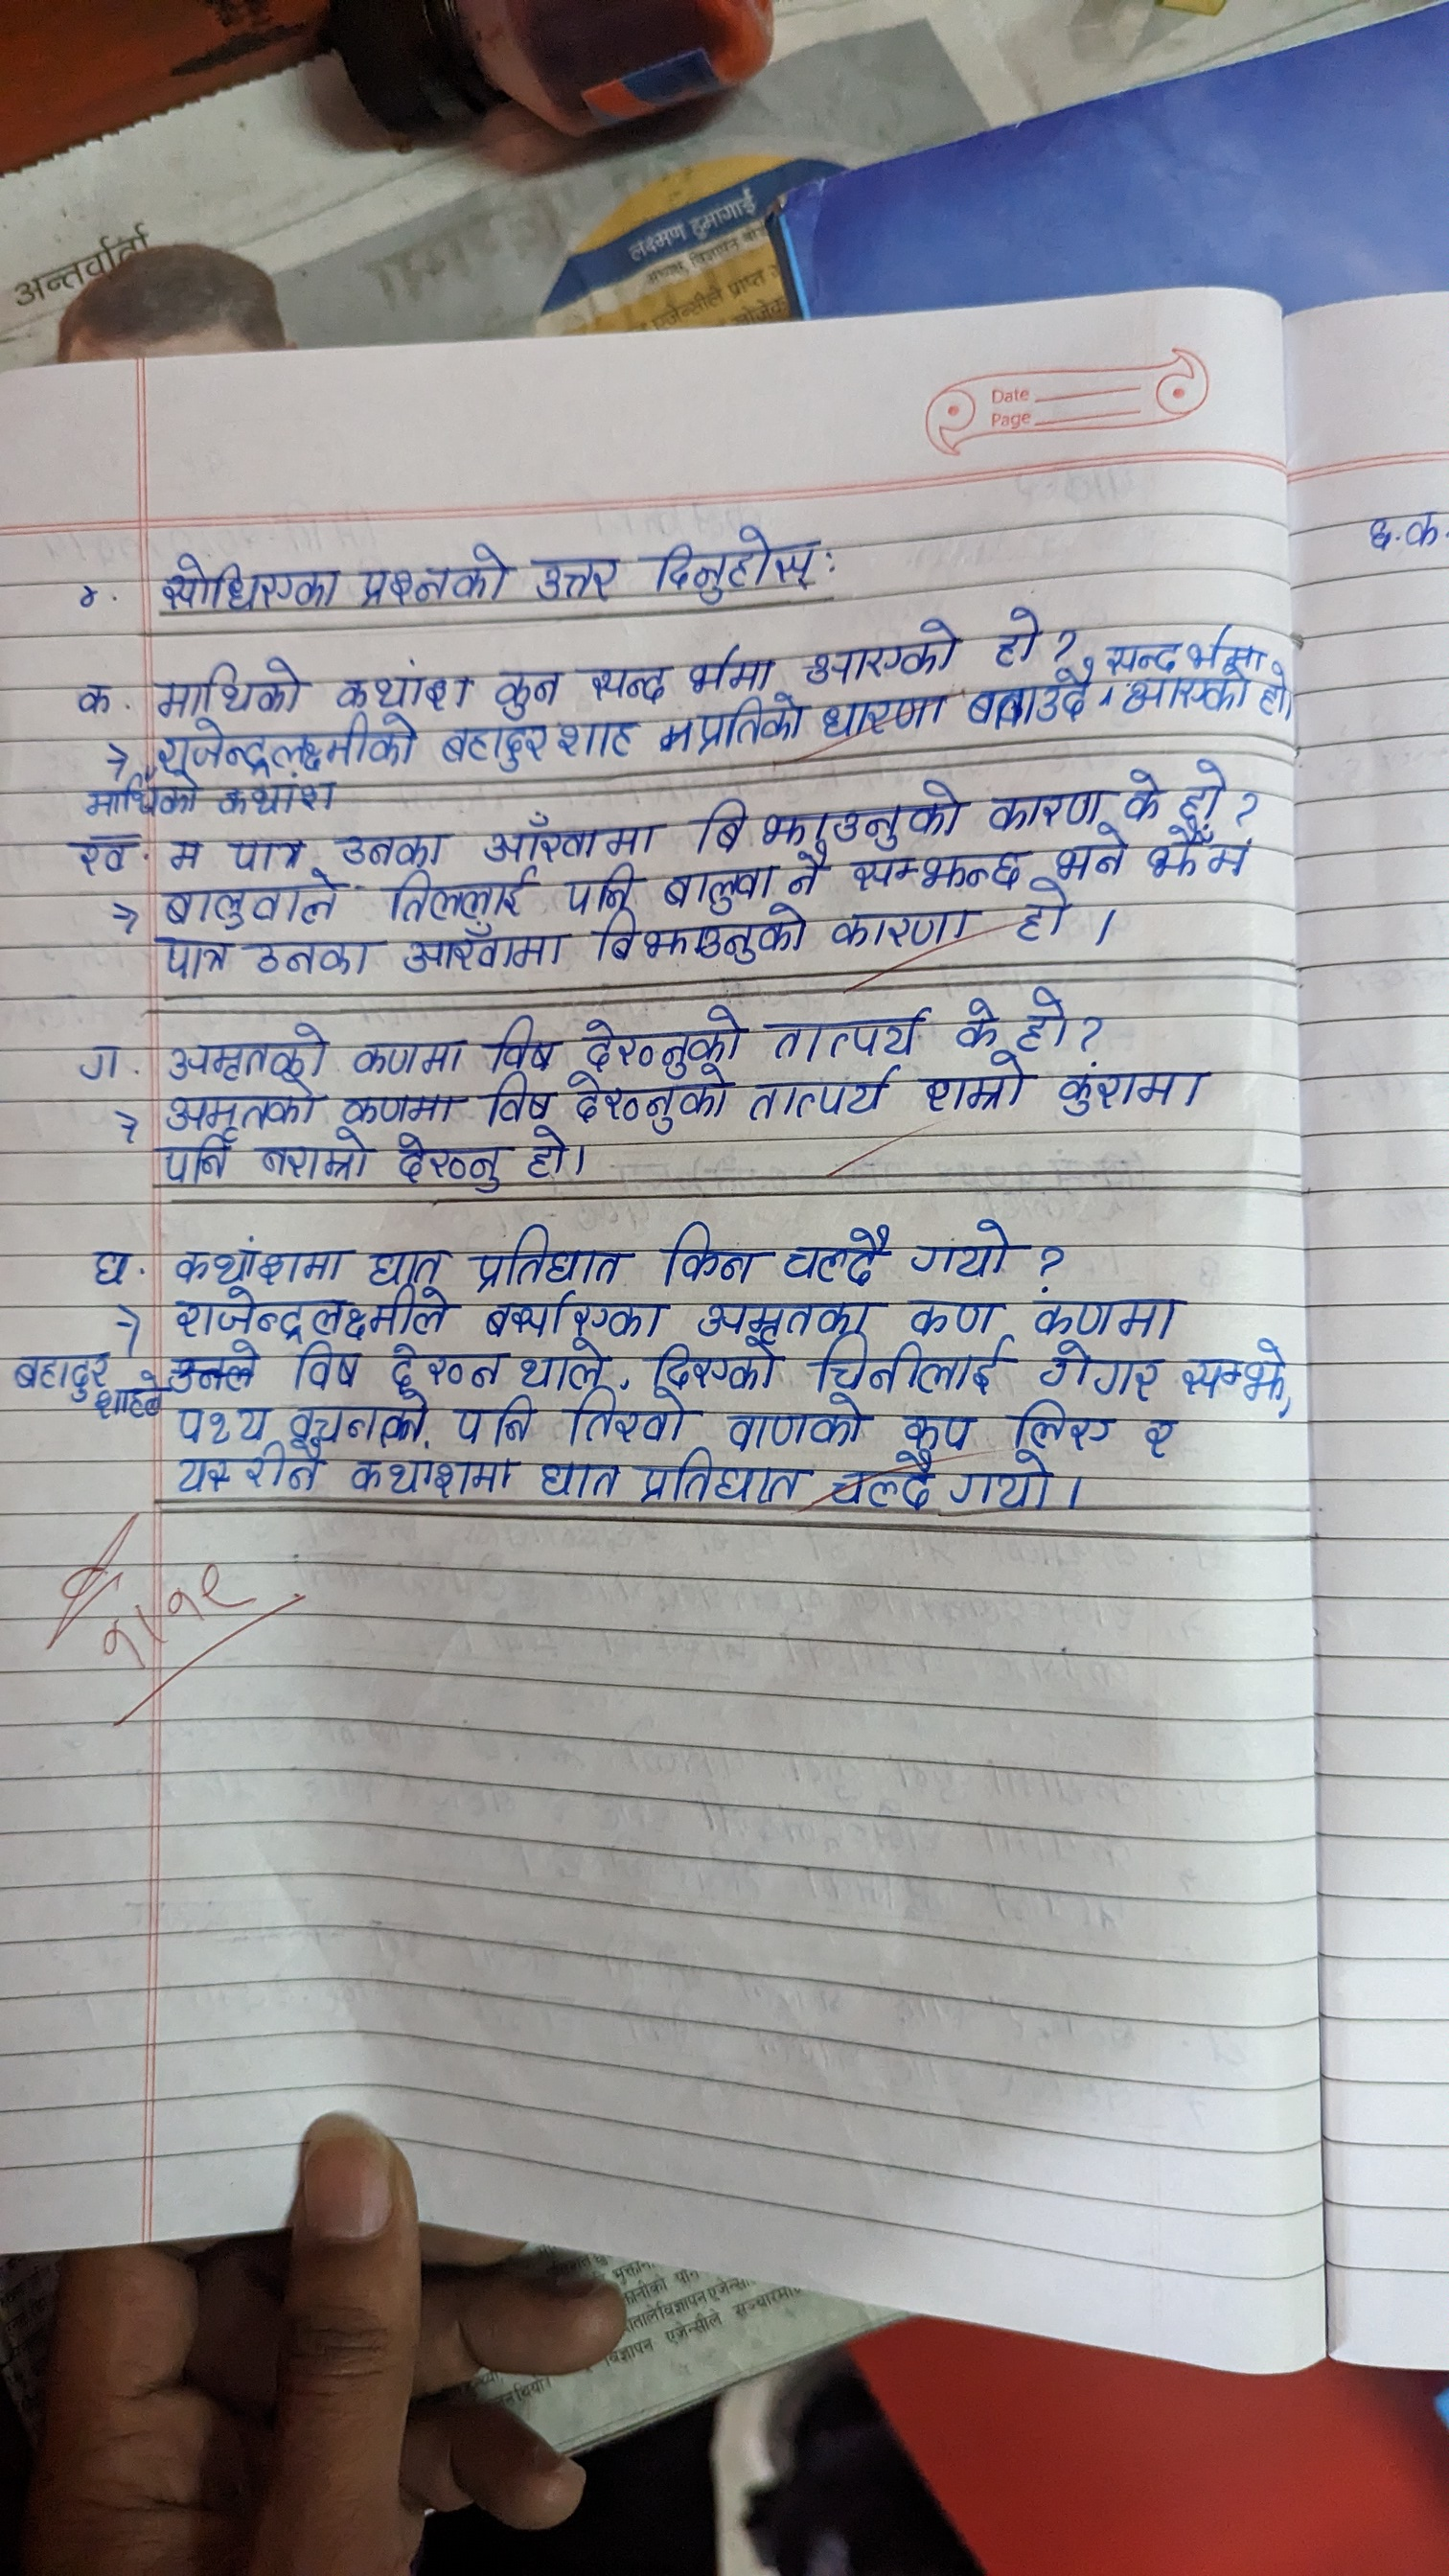text: (683, 778, 970, 847), (163, 1286, 458, 1341), (635, 522, 830, 605), (150, 717, 423, 768), (147, 550, 347, 614), (591, 909, 816, 966), (356, 540, 511, 616), (809, 1336, 1008, 1394), (794, 616, 968, 683), (465, 1223, 628, 1292), (566, 1067, 732, 1134), (159, 1233, 361, 1286), (743, 1063, 909, 1127), (573, 1005, 743, 1067), (630, 1451, 809, 1509), (157, 1019, 331, 1079), (1053, 1060, 1223, 1120), (157, 872, 343, 927), (478, 810, 669, 863), (757, 1005, 936, 1062), (398, 922, 575, 977), (157, 1079, 327, 1136), (149, 660, 310, 718), (478, 1290, 665, 1339), (324, 656, 474, 717), (724, 1391, 869, 1451), (343, 1453, 525, 1500), (379, 867, 545, 918), (692, 1292, 883, 1336), (962, 671, 1100, 731), (780, 1217, 895, 1288), (168, 1442, 326, 1493), (651, 1221, 777, 1284), (556, 1389, 695, 1444), (1039, 1338, 1166, 1398), (1177, 1339, 1293, 1405), (1026, 1290, 1180, 1339), (281, 1392, 435, 1442), (826, 906, 985, 954), (635, 1339, 787, 1389), (920, 1051, 1028, 1118), (393, 1131, 510, 1192), (828, 1451, 938, 1516), (1099, 628, 1267, 671), (695, 694, 807, 757), (1145, 819, 1256, 883), (849, 853, 1031, 892), (948, 1453, 1054, 1518), (984, 780, 1116, 832), (239, 936, 393, 980), (904, 1215, 1014, 1277), (814, 692, 950, 741), (1122, 674, 1253, 725), (249, 1131, 375, 1184), (527, 548, 630, 610), (437, 720, 550, 775), (660, 860, 782, 909), (76, 773, 202, 821), (384, 1341, 504, 1389), (218, 771, 341, 816), (349, 1031, 464, 1077), (577, 655, 678, 706), (1005, 1399, 1113, 1447), (327, 824, 446, 867), (340, 1086, 467, 1125), (517, 1338, 612, 1389), (448, 1392, 540, 1445), (476, 1014, 563, 1069), (556, 709, 640, 764), (685, 642, 775, 694), (902, 1293, 1001, 1339), (1054, 826, 1134, 883), (5, 1350, 111, 1391), (170, 1399, 267, 1444), (559, 860, 642, 911), (478, 1072, 557, 1125), (361, 1240, 451, 1286), (154, 1132, 232, 1185), (1017, 883, 1074, 955), (534, 1454, 623, 1500), (1012, 985, 1074, 1051), (490, 663, 563, 718), (71, 832, 149, 881), (287, 1341, 363, 1391), (154, 934, 235, 980), (985, 603, 1040, 669), (893, 1408, 971, 1453), (1178, 757, 1231, 819), (228, 833, 306, 874), (1401, 492, 1449, 556), (524, 1123, 575, 1180), (950, 996, 1005, 1047), (71, 672, 126, 722), (1136, 1407, 1185, 1461), (786, 849, 835, 902), (1122, 763, 1166, 821), (1261, 662, 1295, 732), (83, 1246, 136, 1290), (96, 1385, 165, 1419), (81, 1030, 119, 1085), (1362, 506, 1399, 556), (67, 573, 110, 616), (163, 835, 207, 876)
